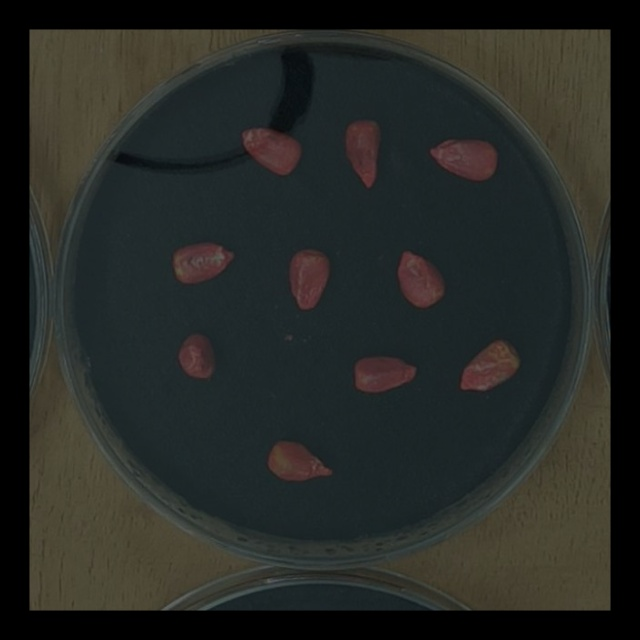Zea mays: (452, 331, 527, 398), (423, 131, 504, 187), (233, 122, 309, 181), (391, 243, 452, 314), (262, 431, 339, 487), (167, 234, 243, 290), (338, 113, 387, 196), (283, 243, 337, 314), (348, 349, 425, 397), (173, 324, 221, 384)
